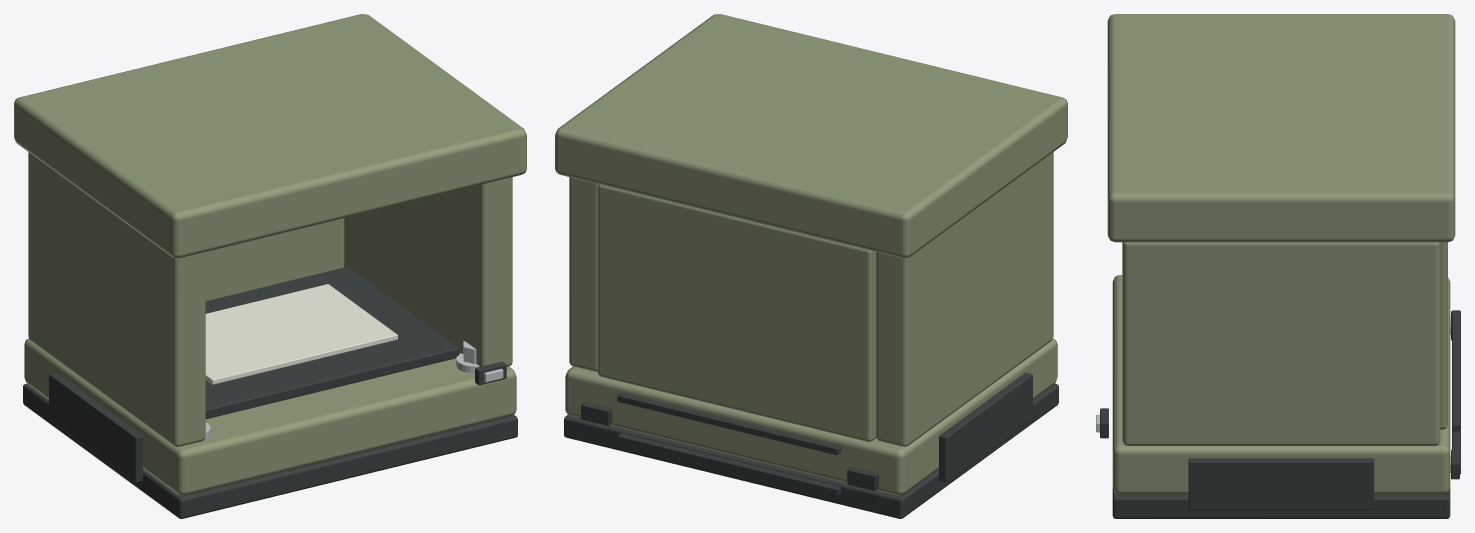
The model's file is mountain-border-checkpoint-mountain-border-checkpoint--2fc0d3e5__30303.glb.
3 views of the same model, side by side, from view 1: azimuth 30°, elevation 25°; view 2: azimuth 150°, elevation 25°; view 3: azimuth 270°, elevation 25° (orthographic). The views are drawn at different scales.
Parts seen in each view (by area): view 1: mountain-border-checkpoint-document-ultraviolet-viewer; view 2: mountain-border-checkpoint-document-ultraviolet-viewer; view 3: mountain-border-checkpoint-document-ultraviolet-viewer.
Part boxes in pixels (x1,y1,x2,y2): mountain-border-checkpoint-document-ultraviolet-viewer: (14, 14, 526, 518); mountain-border-checkpoint-document-ultraviolet-viewer: (555, 14, 1067, 518); mountain-border-checkpoint-document-ultraviolet-viewer: (1096, 14, 1460, 518).
Size of the model in its own units: 0.442 by 0.365 by 0.367.
